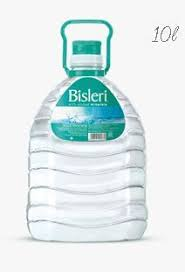Bisleri: (68, 88, 115, 129)
plastic: (50, 97, 135, 226)
